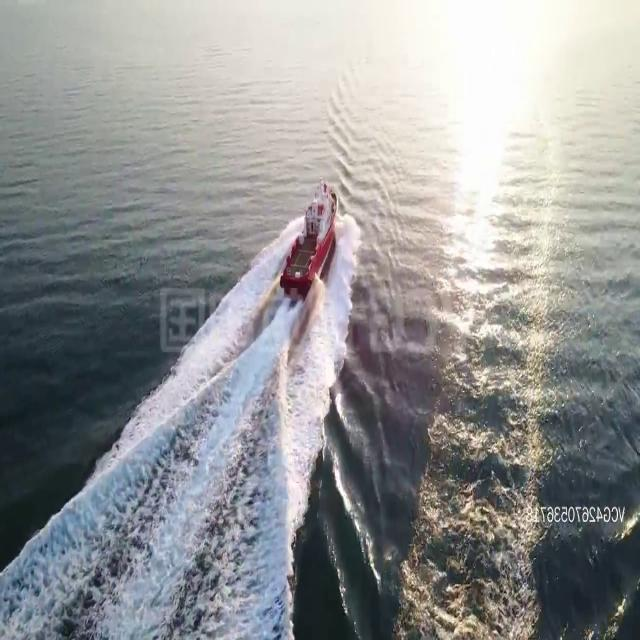houseboat: (282, 186, 341, 297)
